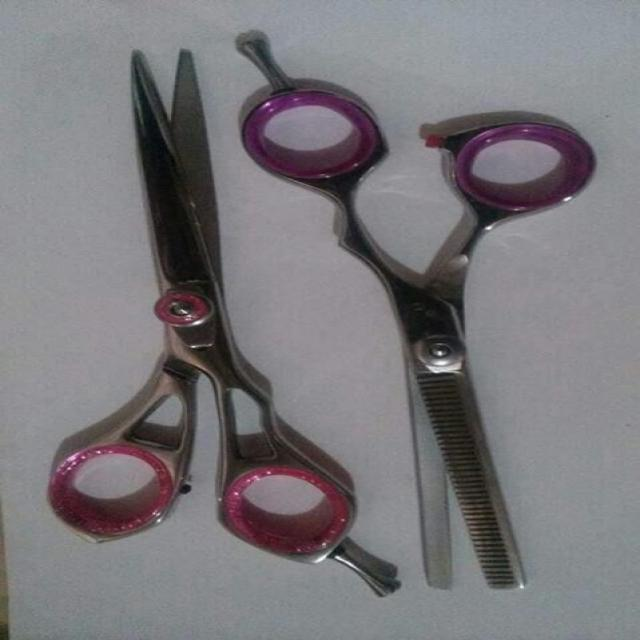Gunting: (23, 28, 425, 601)
